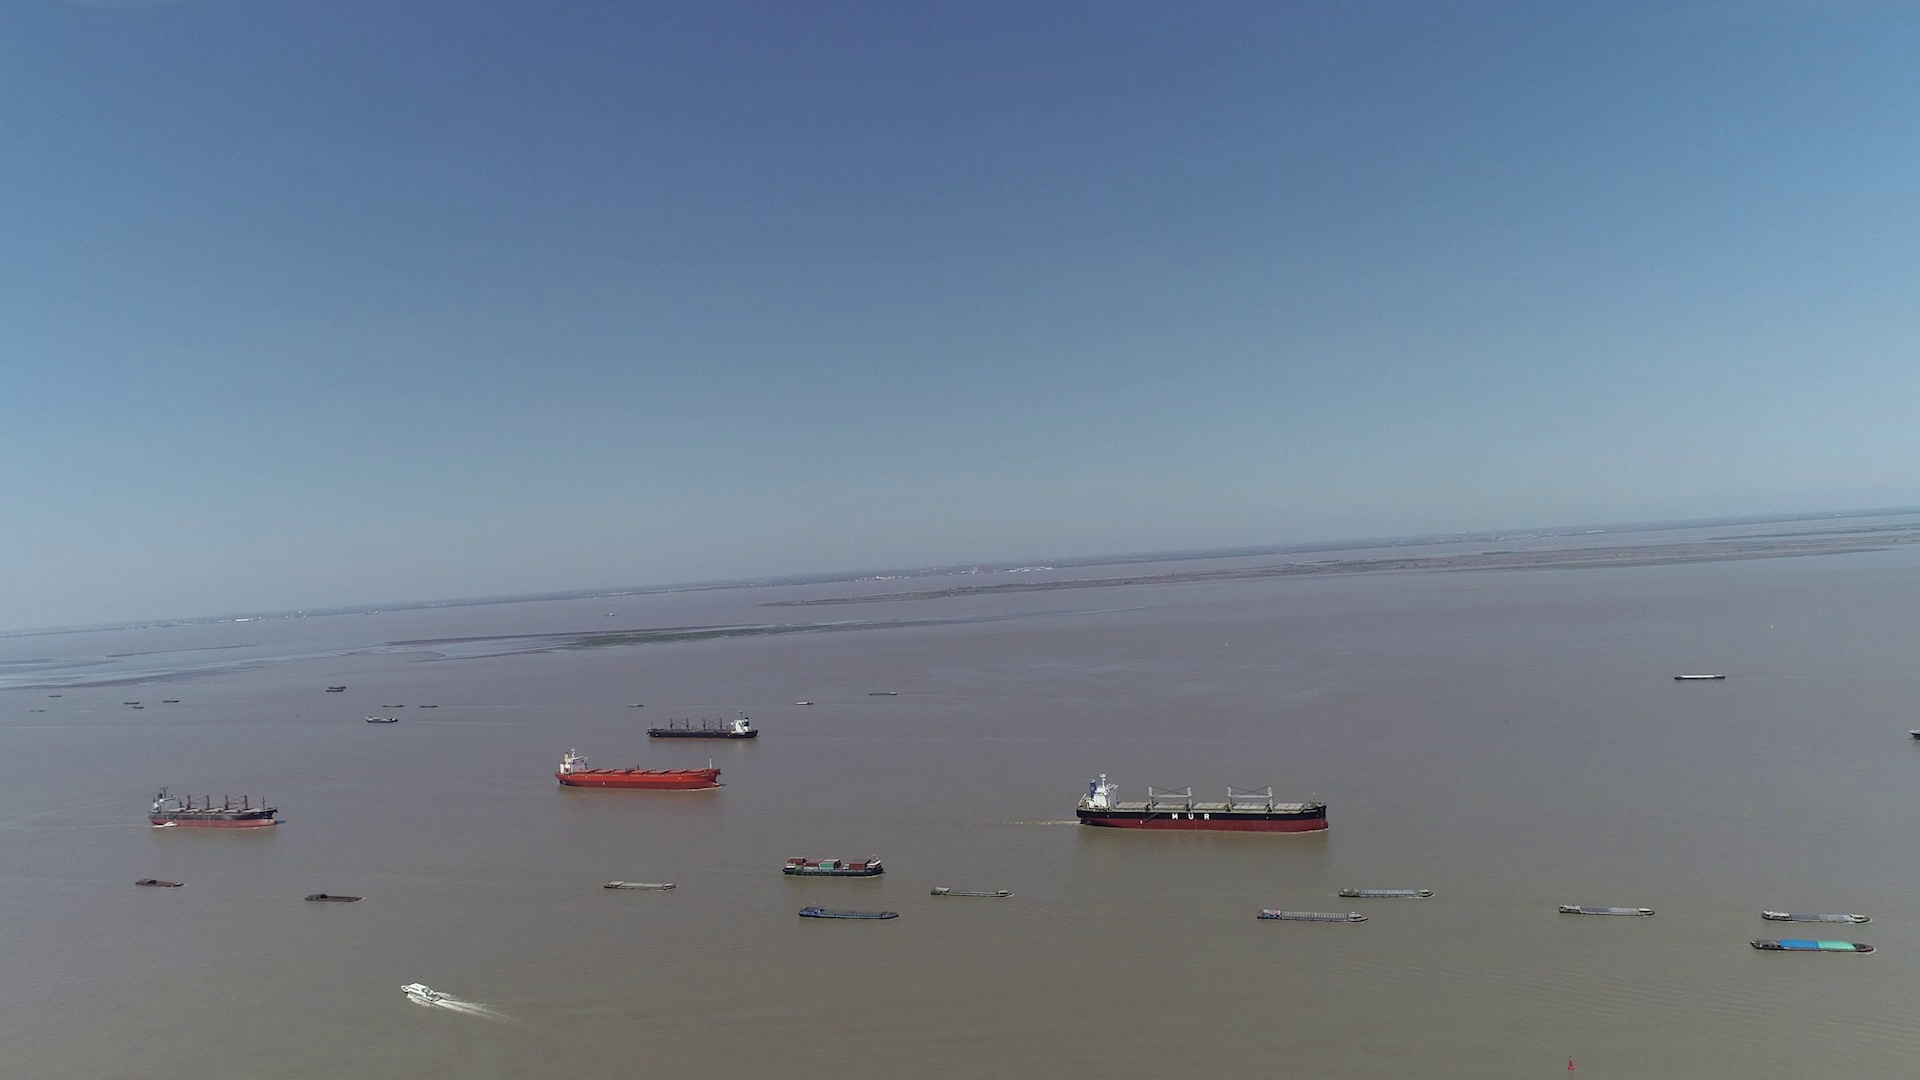ship: (1077, 771, 1327, 833), (554, 746, 724, 791), (146, 786, 278, 828), (647, 713, 760, 738), (1751, 935, 1873, 953), (782, 855, 884, 876), (1759, 907, 1869, 924), (1255, 907, 1367, 923), (799, 903, 897, 920), (1557, 902, 1656, 918), (1338, 884, 1431, 899), (930, 882, 1011, 898), (404, 982, 447, 1006), (601, 878, 675, 890), (305, 891, 364, 903), (133, 877, 178, 889), (1675, 674, 1725, 680), (363, 715, 397, 724), (124, 698, 142, 705)
